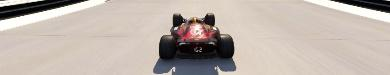Car: (158, 12, 234, 59)
